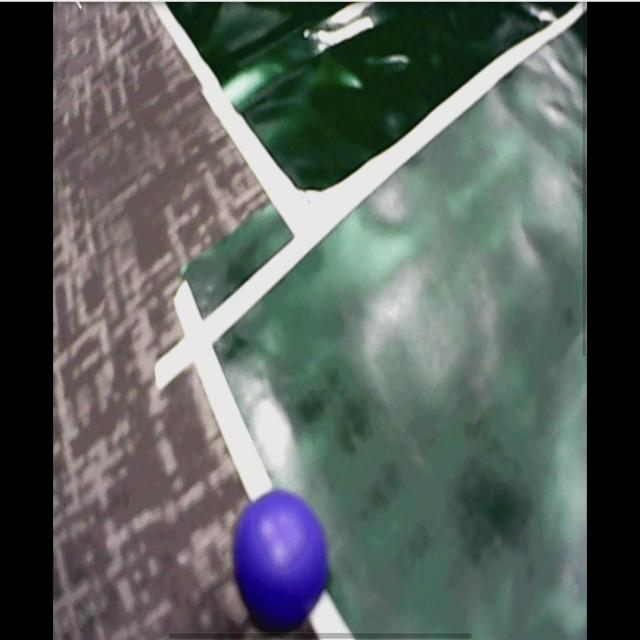ball: (239, 492, 329, 629)
